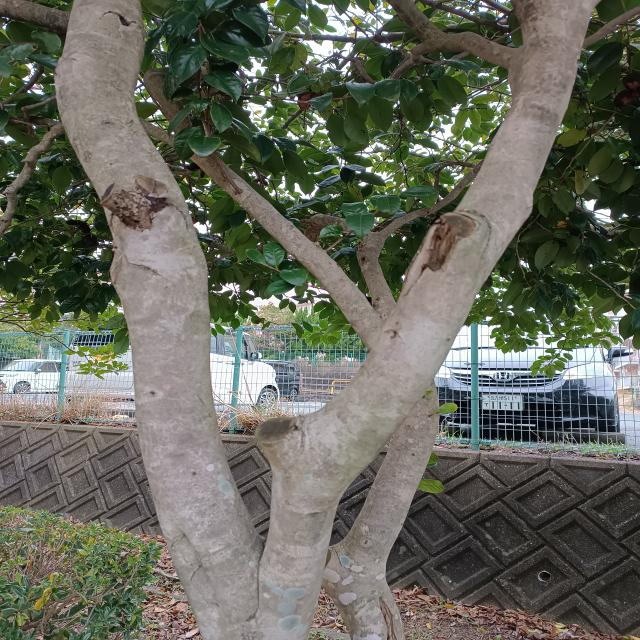Branch: (251, 0, 603, 614), (55, 2, 263, 640), (143, 73, 382, 346), (320, 297, 438, 640), (387, 0, 514, 70), (356, 231, 394, 308), (0, 1, 71, 30)
Twig: (381, 161, 481, 243), (584, 5, 639, 46), (305, 214, 371, 241), (392, 44, 431, 81), (141, 117, 175, 144)
